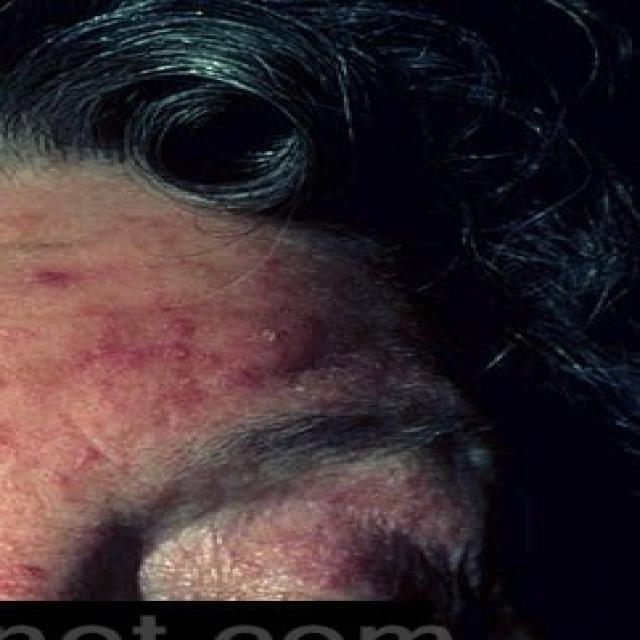Rosacea: (68, 285, 333, 399)
